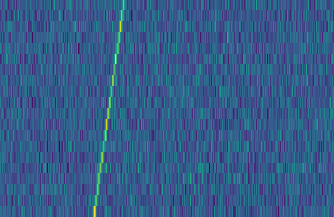signal: (88, 0, 128, 217)
